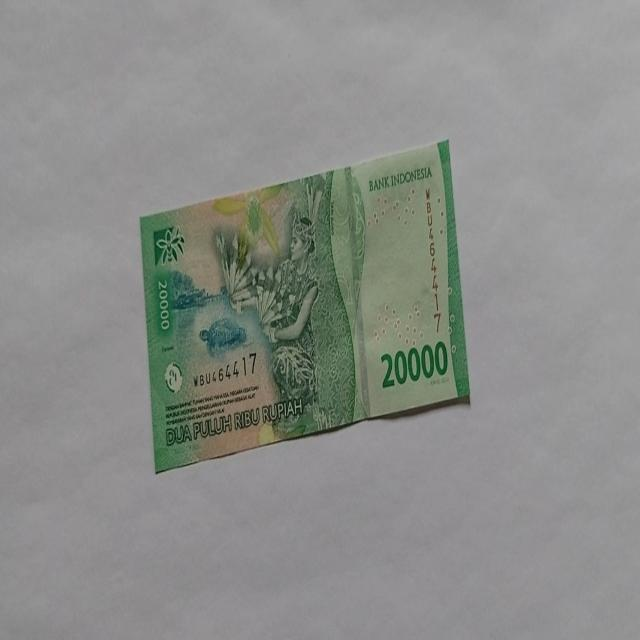dua puluh ribu rupiah: (138, 137, 472, 473)
